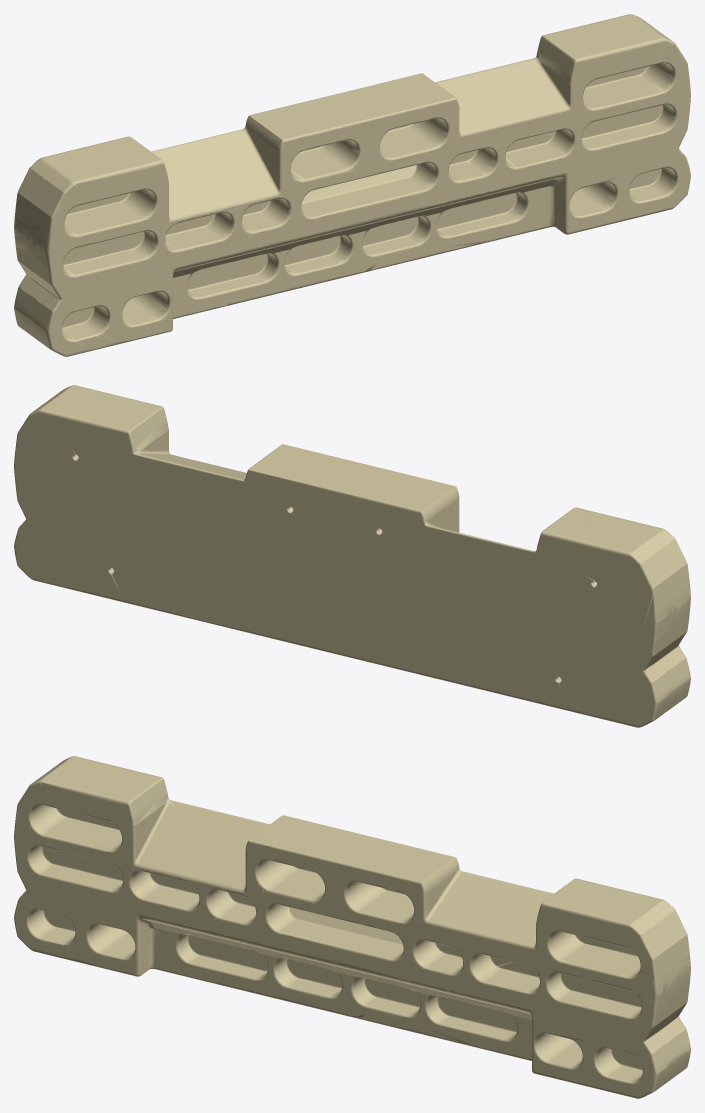
File: target10a-linebreaker-base.glb
3 renders of one model, top to bottom at view 1: azimuth 30°, elevation 25°; view 2: azimuth 150°, elevation 25°; view 3: azimuth 330°, elevation 25°, orthographic.
Parts seen in each view (by area): view 1: body, hold-top-sloper-left, hold-top-jug-left, hold-top-jug-right, hold-top-sloper-right, hold-central-35deg-sloper-bar, hold-upper-four-finger-left, hold-upper-four-finger-right, hold-middle-four-finger-left, hold-middle-four-finger-right, hold-lower-four-finger-left, hold-lower-four-finger-right (+12 smaller); view 2: body, hold-top-jug-right, hold-top-jug-left, hold-top-sloper-right, hold-top-sloper-left; view 3: body, hold-top-sloper-left, hold-top-jug-right, hold-top-jug-left, hold-top-sloper-right, hold-central-35deg-sloper-bar, hold-upper-four-finger-right, hold-upper-four-finger-left, hold-middle-four-finger-left, hold-middle-four-finger-right, hold-lower-four-finger-left, hold-lower-four-finger-right (+12 smaller).
Boxes of the visible parts, x1,y1,x2,y2 form: body: (14,51,690,356); hold-top-sloper-left: (151,129,276,218); hold-top-jug-left: (23,136,168,213); hold-top-jug-right: (536,14,682,93); hold-top-sloper-right: (435,58,569,146); hold-central-35deg-sloper-bar: (300,161,439,219); hold-upper-four-finger-left: (63,187,158,238); hold-upper-four-finger-right: (581,61,675,111); hold-middle-four-finger-left: (62,226,159,278); hold-middle-four-finger-right: (576,102,677,151); hold-lower-four-finger-left: (186,250,280,299); hold-lower-four-finger-right: (435,190,529,238); body: (14,421,690,727); hold-top-jug-right: (23,385,168,461); hold-top-jug-left: (536,507,681,592); hold-top-sloper-right: (116,452,268,540); hold-top-sloper-left: (407,525,553,559); body: (14,795,690,1098); hold-top-sloper-left: (138,800,269,889); hold-top-jug-right: (536,878,681,956); hold-top-jug-left: (22,756,167,831); hold-top-sloper-right: (417,871,553,949); hold-central-35deg-sloper-bar: (265,902,404,961); hold-upper-four-finger-right: (546,930,640,979); hold-upper-four-finger-left: (28,803,123,853); hold-middle-four-finger-left: (26,844,124,896); hold-middle-four-finger-right: (543,966,643,1021); hold-lower-four-finger-left: (175,932,269,980); hold-lower-four-finger-right: (424,993,518,1042).
Bounding box in the file's own units: 0.5789 × 0.149 × 0.055.
